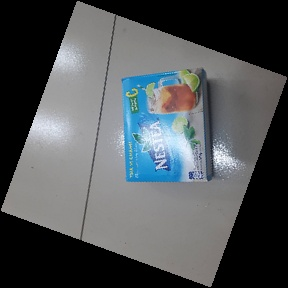Nestea: (119, 66, 217, 185)
